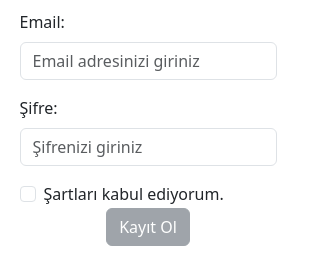
Test case: Login Page › Form inputs validated › Email input validated
Type "oguzhan@wit.com" into the field with test id "form-email".
click(149, 61); type("oguzhan@wit.com")  # box [20,42,277,80]
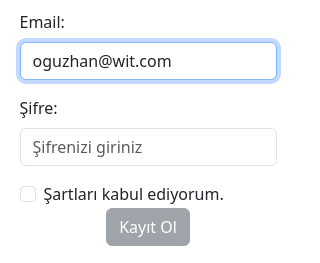
Type "12345.A*a" into the password field with test id "form-password".
click(149, 147); type("12345.A*a")  # box [20,128,277,166]
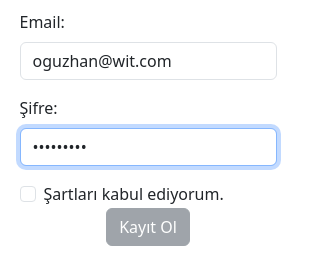
Check the checkbox with test id "form-terms".
click(28, 194)  # box [20,186,36,202]
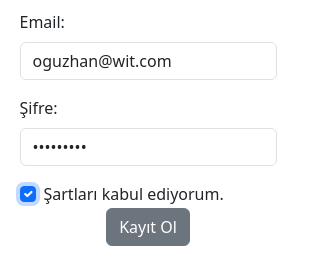
Check: the checkbox with test id "form-terms" is checked, box [20,186,36,202]
Check: the button with test id "form-button" is enabled, box [106,208,190,246]
